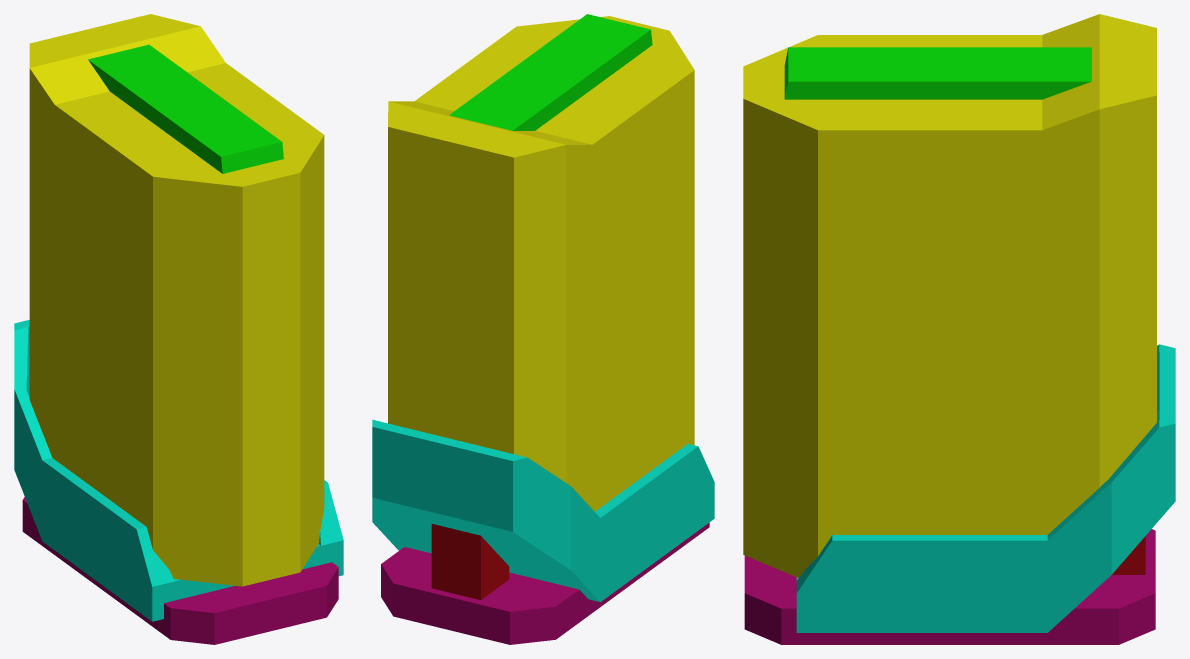
Rendered from capacitor.glb.
3 views of the same model, side by side, from view 1: azimuth 30°, elevation 25°; view 2: azimuth 150°, elevation 25°; view 3: azimuth 270°, elevation 25° (orthographic). The views are drawn at different scales.
Visible parts, largest first — view 1: Cube.006, Cube.004, Cube.003, Cube.007; view 2: Cube.006, Cube.004, Cube.007, Cube.003, Cube.005; view 3: Cube.006, Cube.004, Cube.003, Cube.007, Cube.005.
Part boxes in pixels (bbox=[...]): Cube.006: bbox=[29, 14, 324, 586]; Cube.004: bbox=[14, 320, 343, 621]; Cube.003: bbox=[88, 44, 283, 173]; Cube.007: bbox=[22, 497, 338, 644]; Cube.006: bbox=[388, 16, 694, 511]; Cube.004: bbox=[372, 419, 714, 602]; Cube.007: bbox=[381, 522, 709, 644]; Cube.003: bbox=[449, 14, 652, 130]; Cube.005: bbox=[431, 524, 509, 600]; Cube.006: bbox=[743, 14, 1156, 577]; Cube.004: bbox=[796, 344, 1175, 632]; Cube.003: bbox=[784, 47, 1091, 99]; Cube.007: bbox=[744, 529, 1155, 644]; Cube.005: bbox=[1112, 536, 1145, 574].
Bounding box in the file's own units: 0.911 × 2.14 × 1.56.
